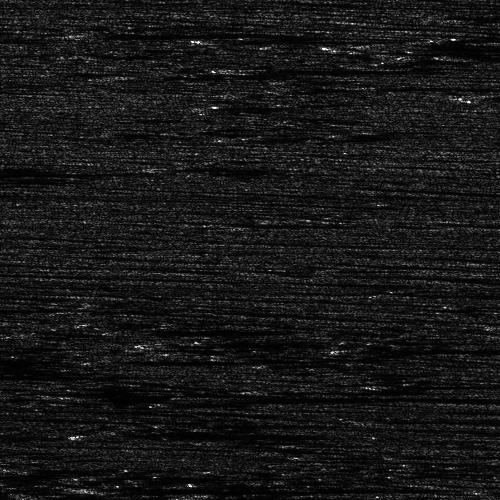rock: (3, 424, 160, 443), (51, 350, 156, 369), (50, 483, 113, 492), (322, 345, 363, 352), (99, 326, 152, 331), (457, 94, 500, 99)
shadow: (104, 350, 320, 369), (82, 424, 297, 443), (82, 483, 500, 492), (343, 345, 500, 352), (126, 326, 290, 331), (0, 177, 76, 180)
